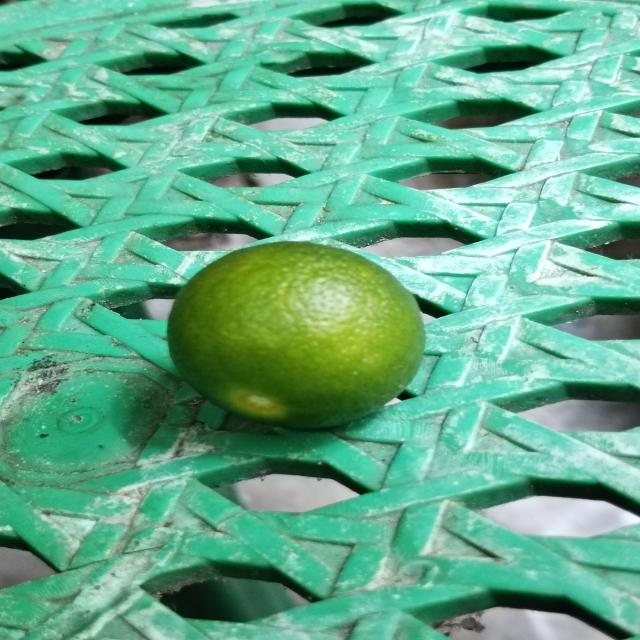heathy: (165, 242, 430, 430)
